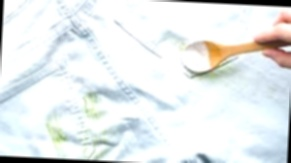earth: (81, 130, 109, 160), (44, 119, 68, 147), (84, 94, 97, 120)
